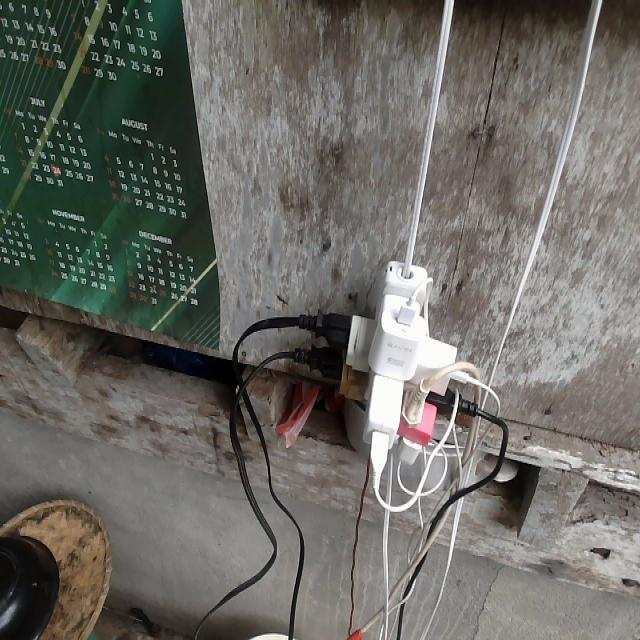-: (293, 254, 467, 482)
